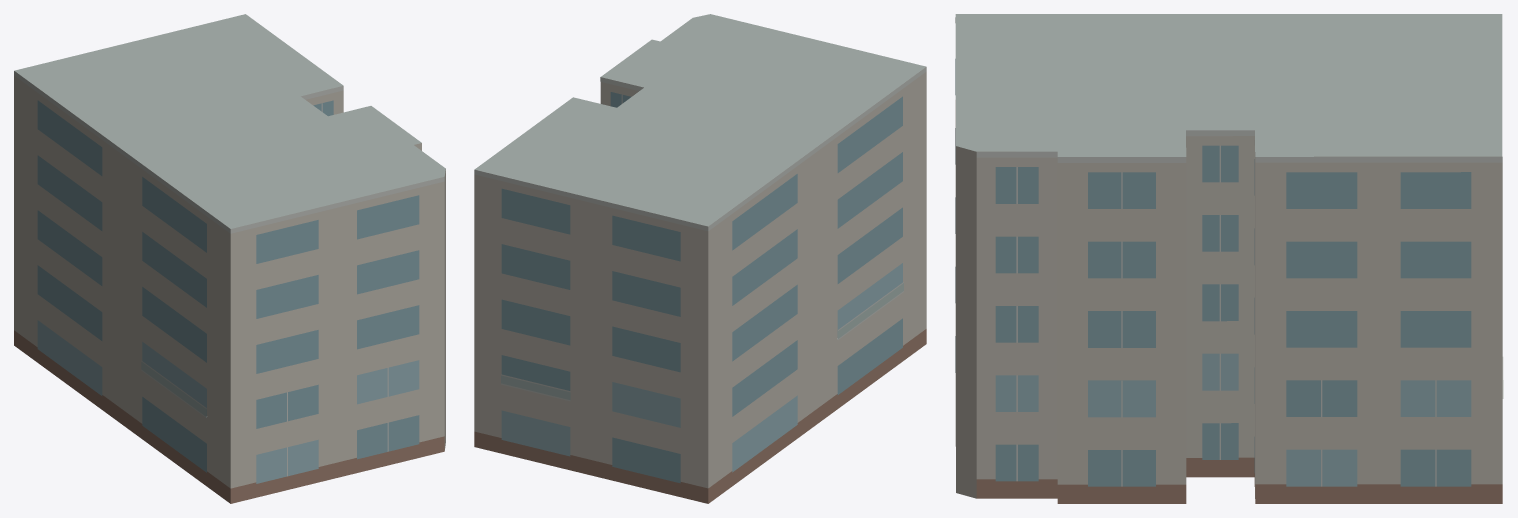
The model's file is survey-upis-32954799.glb.
The picture shows the model from 3 angles, left to right: view 1: azimuth 30°, elevation 25°; view 2: azimuth 150°, elevation 25°; view 3: azimuth 270°, elevation 25°; orthographic projection. The views are drawn at different scales.
Visible parts, largest first — view 1: survey-upis-32954799.tmp; view 2: survey-upis-32954799.tmp; view 3: survey-upis-32954799.tmp.
Boxes of the visible parts, left/top/right/bottom form: survey-upis-32954799.tmp: left=14, top=14, right=445, bottom=503; survey-upis-32954799.tmp: left=474, top=14, right=926, bottom=503; survey-upis-32954799.tmp: left=955, top=14, right=1503, bottom=503.
Size of the model in its own units: 12.58 by 14.2 by 20.33.
